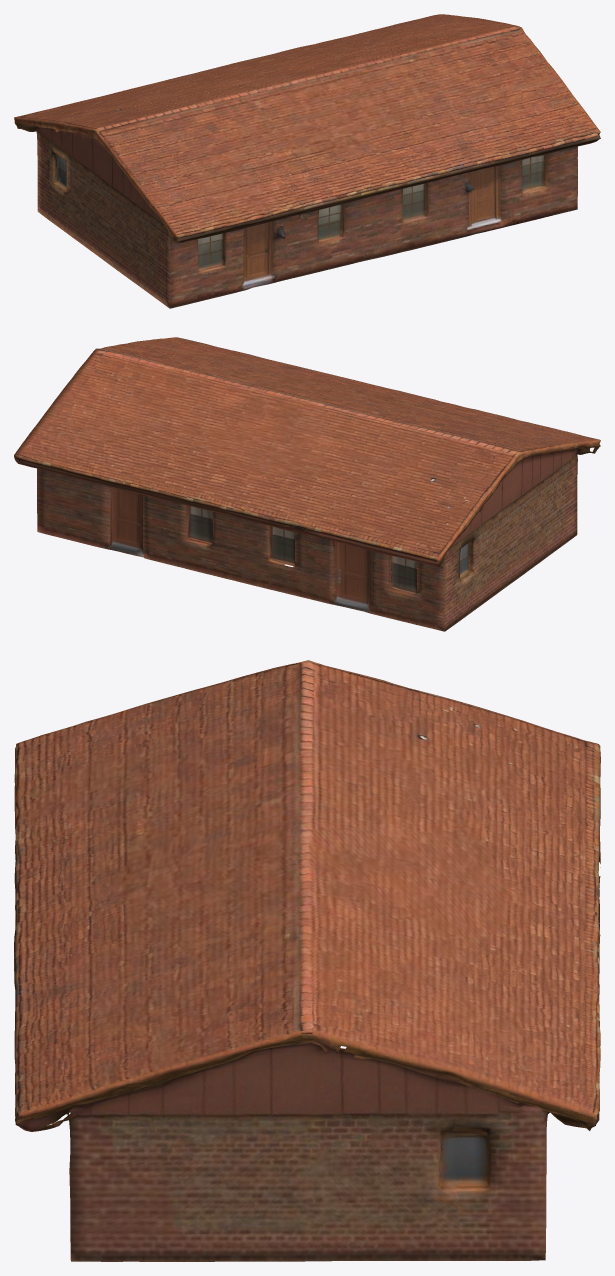
The model's file is kid_house.glb.
The picture shows the model from 3 angles, top to bottom: view 1: azimuth 30°, elevation 25°; view 2: azimuth 150°, elevation 25°; view 3: azimuth 270°, elevation 25°; orthographic projection. The views are drawn at different scales.
Visible parts, largest first — view 1: input; view 2: input; view 3: input.
Boxes of the visible parts, x1=… form: input: x1=14, y1=14, x2=600, y2=308; input: x1=14, y1=337, x2=600, y2=631; input: x1=14, y1=660, x2=600, y2=1261.
Size of the model in its own units: 2 by 0.5994 by 1.33.
Materials: 1 (1 with a texture image).
